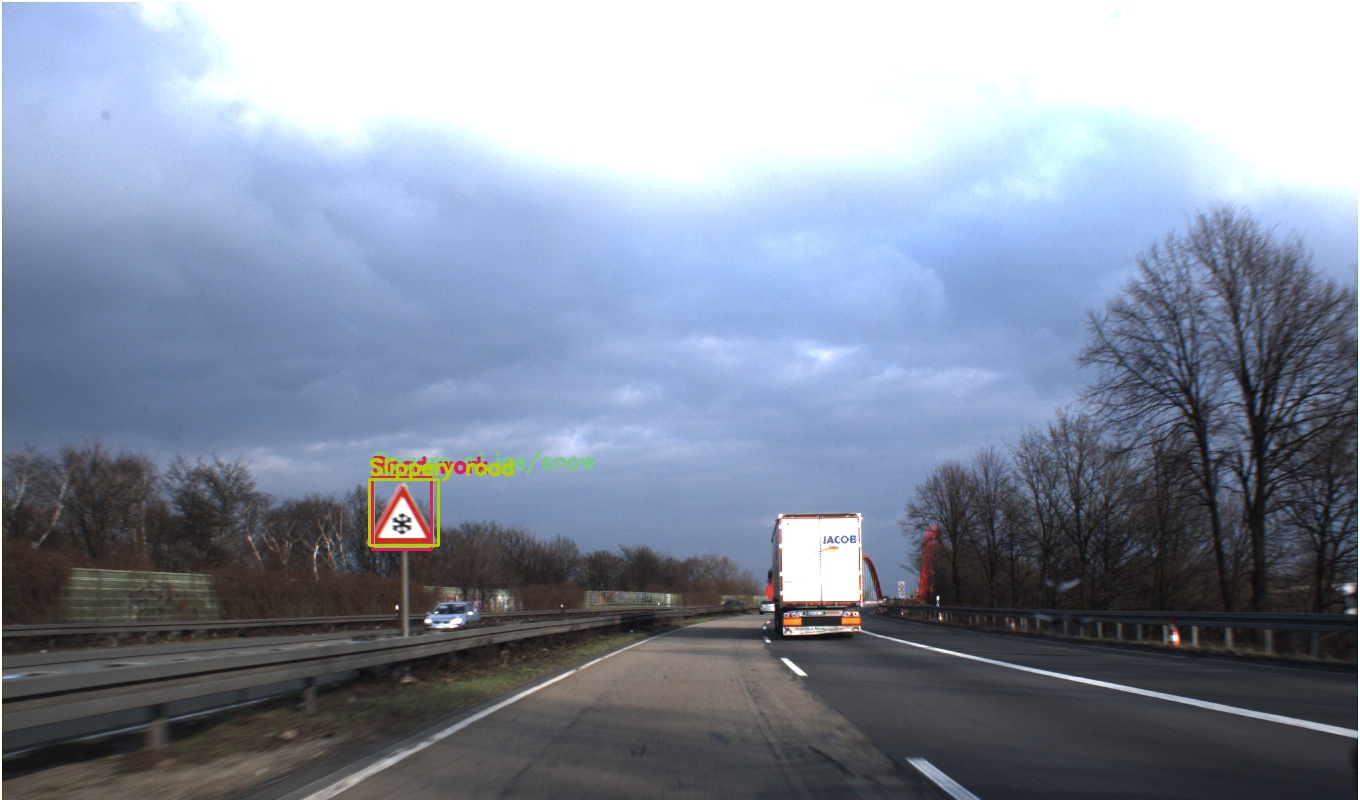Double curve: (898, 342, 967, 409)
Speed limit (50km/h): (906, 407, 955, 459)
